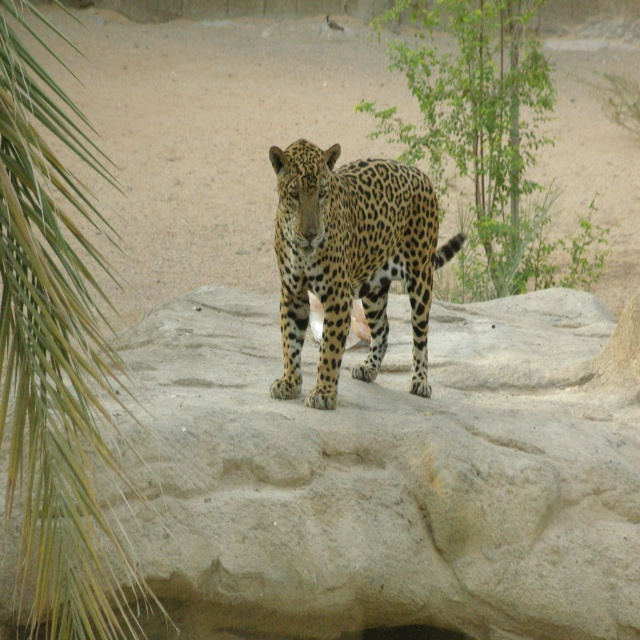Jaguar: (265, 137, 468, 410)
